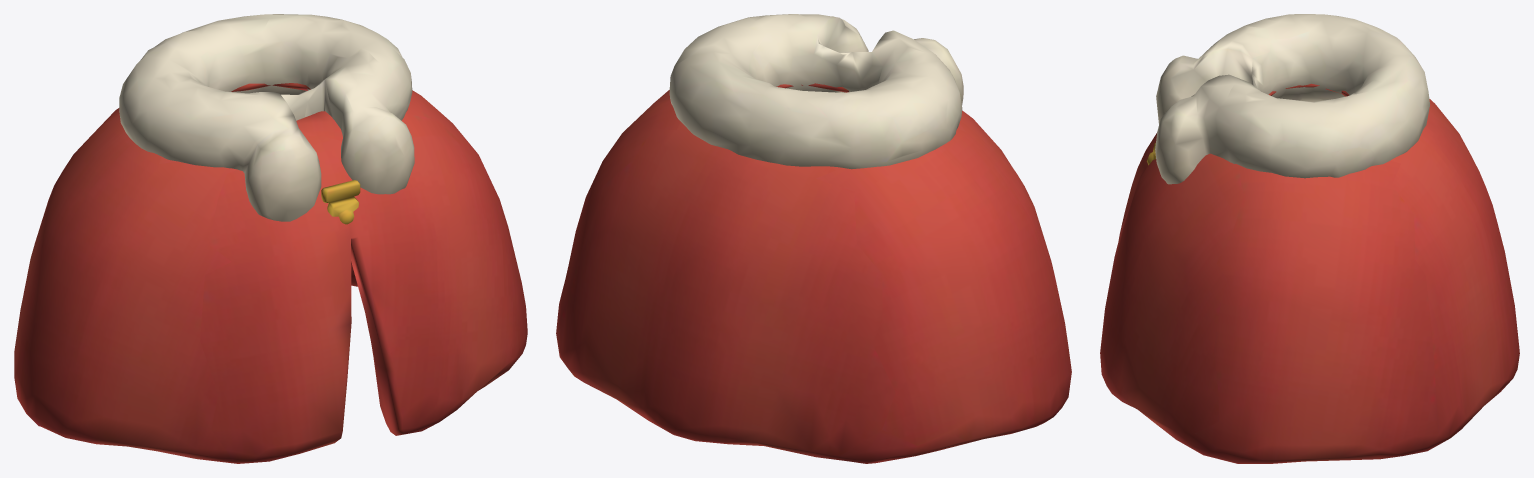
Rendered from mantle.glb.
The picture shows the model from 3 angles, left to right: view 1: azimuth 30°, elevation 25°; view 2: azimuth 150°, elevation 25°; view 3: azimuth 270°, elevation 25°; orthographic projection. The views are drawn at different scales.
Parts seen in each view (by area): view 1: cloth; view 2: cloth; view 3: cloth.
Part boxes in pixels (bbox=[...]): cloth: bbox=[14, 14, 527, 463]; cloth: bbox=[556, 14, 1071, 463]; cloth: bbox=[1100, 14, 1519, 463].
Bounding box in the file's own units: 1.01 × 0.6544 × 0.8109.
1 material, 1 textured.
